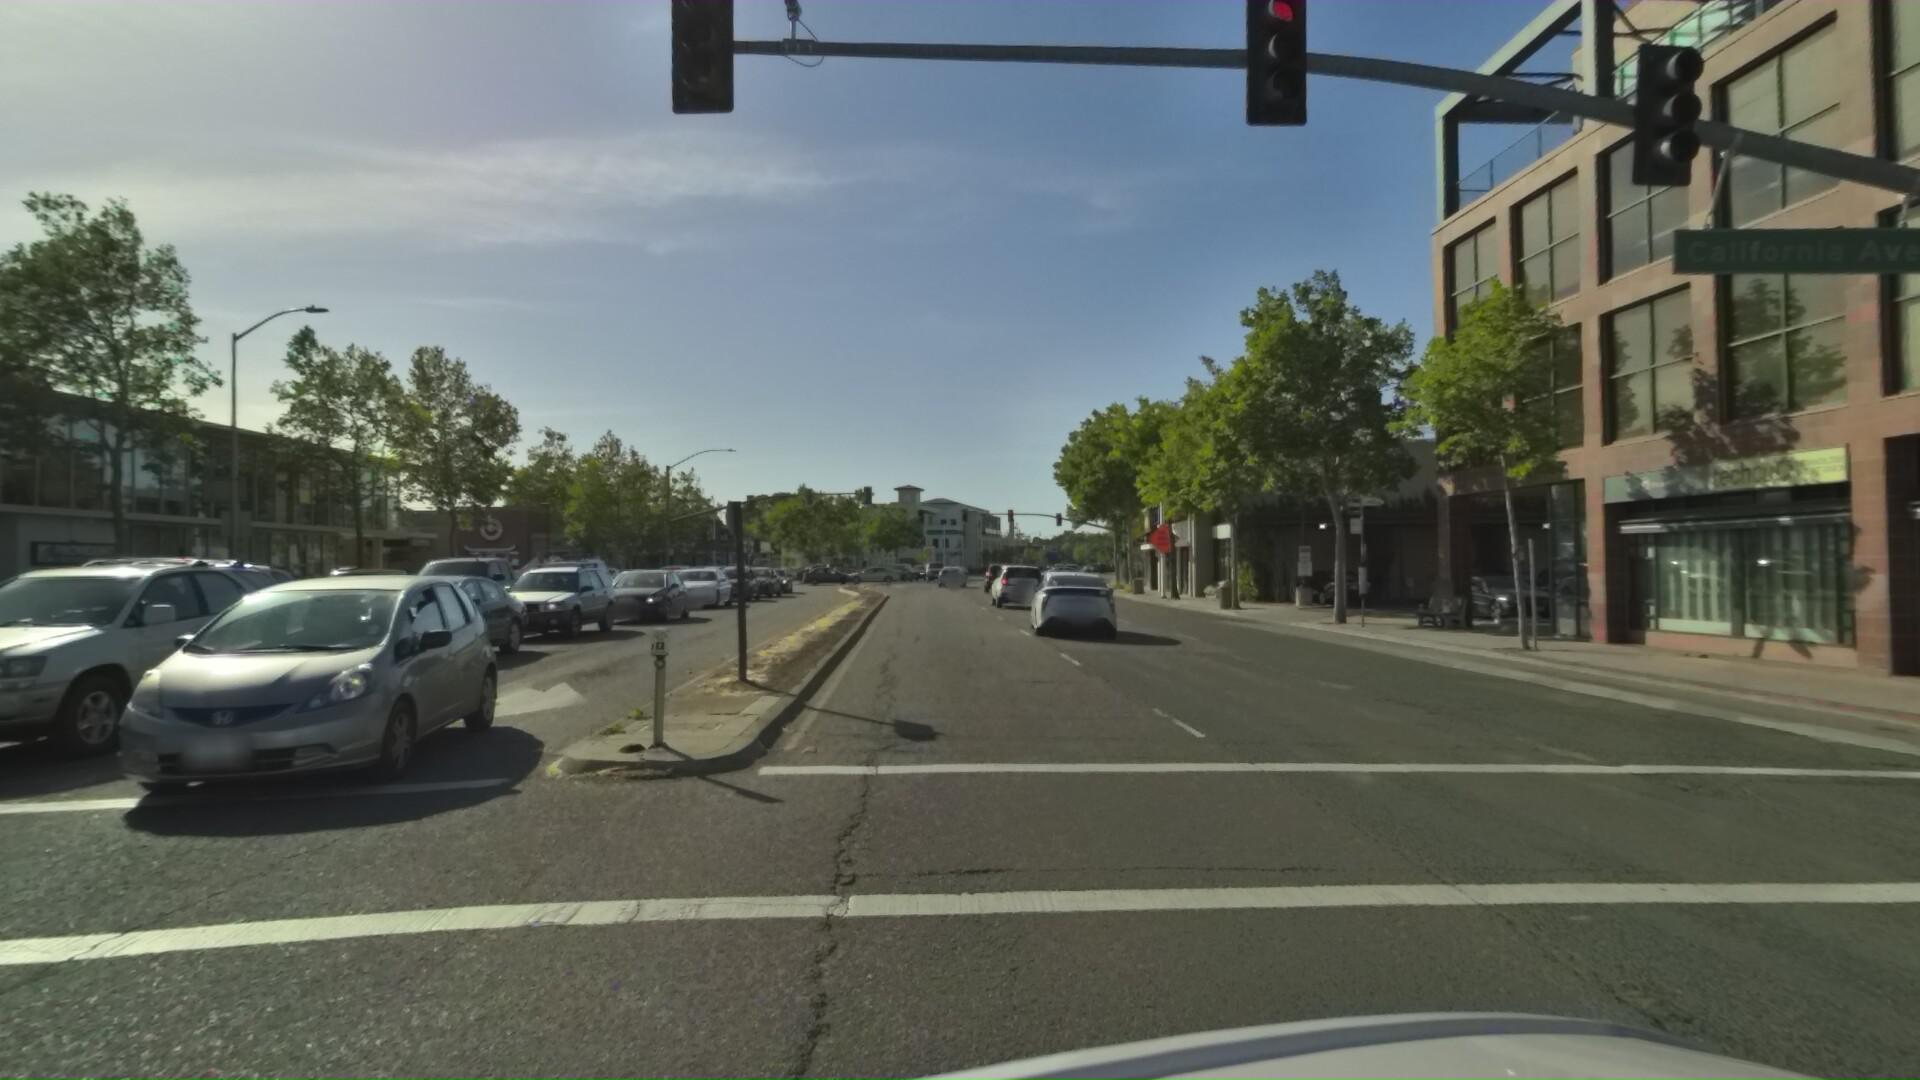bicycle: (1085, 558, 1108, 587)
car: (55, 567, 510, 819), (0, 531, 340, 773), (0, 556, 328, 688), (20, 555, 287, 665), (295, 567, 545, 673), (371, 547, 572, 641), (483, 556, 630, 641), (280, 563, 433, 634), (1441, 563, 1582, 621), (1034, 562, 1120, 636), (518, 551, 618, 613), (600, 563, 700, 622), (663, 563, 749, 608), (603, 564, 682, 609), (1305, 562, 1386, 605), (994, 556, 1052, 608), (717, 560, 773, 603), (738, 563, 794, 601), (696, 560, 765, 584), (808, 562, 874, 585), (848, 562, 909, 585), (1038, 560, 1098, 584), (760, 563, 804, 595), (992, 556, 1029, 593), (943, 560, 975, 589)
